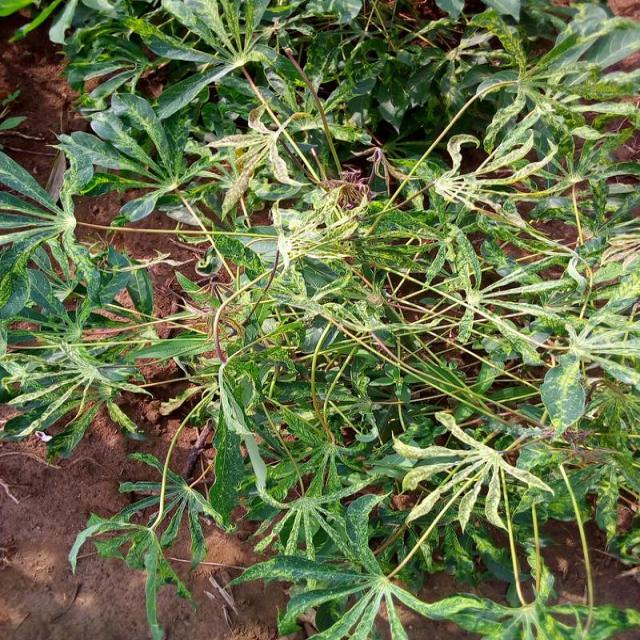cassava leaf: (0, 0, 638, 638), (538, 351, 586, 440)
